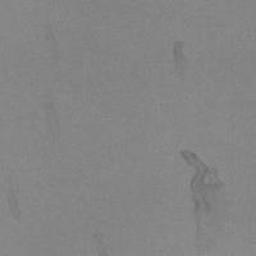Water spot: (180, 150, 220, 211), (7, 168, 20, 220), (173, 41, 186, 74)
